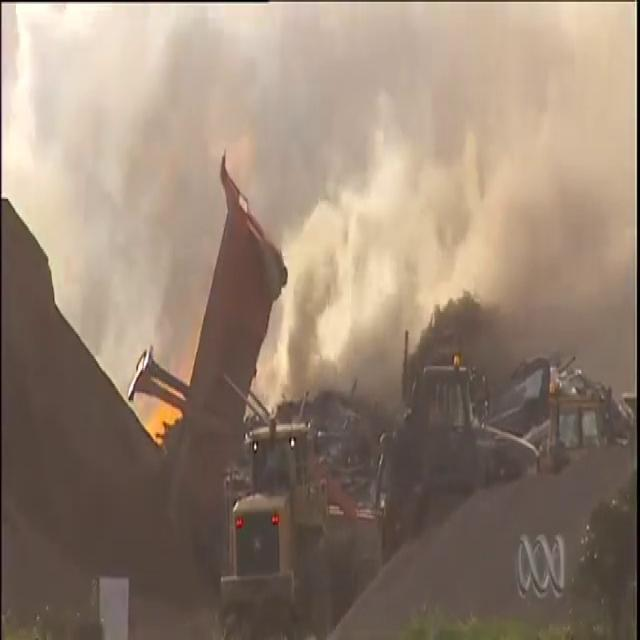Smoke: (273, 2, 637, 368)
